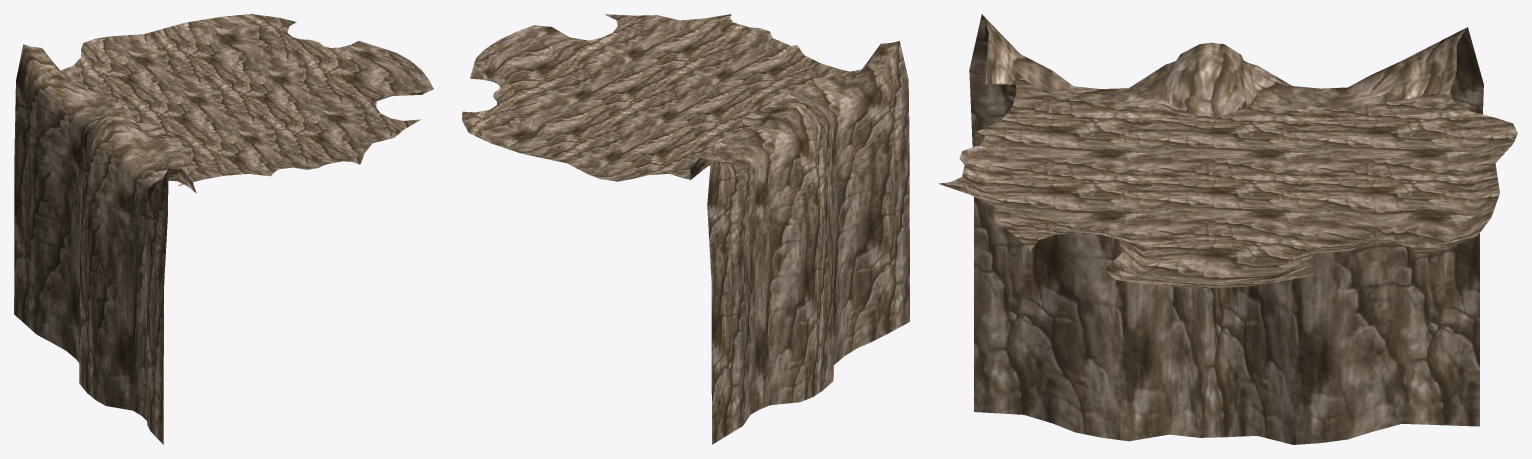
The model's file is OVERHILL_A_01_OBJECT15.fbx.
3 renders of one model, left to right at view 1: azimuth 30°, elevation 25°; view 2: azimuth 150°, elevation 25°; view 3: azimuth 270°, elevation 25°, orthographic. The views are drawn at different scales.
Visible parts, largest first — view 1: OVERHILL_A_01_OBJECT15; view 2: OVERHILL_A_01_OBJECT15; view 3: OVERHILL_A_01_OBJECT15.
Part boxes in pixels (x1,y1,x2,y2): OVERHILL_A_01_OBJECT15: (14, 14, 433, 444); OVERHILL_A_01_OBJECT15: (462, 14, 909, 444); OVERHILL_A_01_OBJECT15: (938, 14, 1517, 444).
Size of the model in its own units: 182313 by 151355 by 187742.
Materials: 1 (1 with a texture image).
